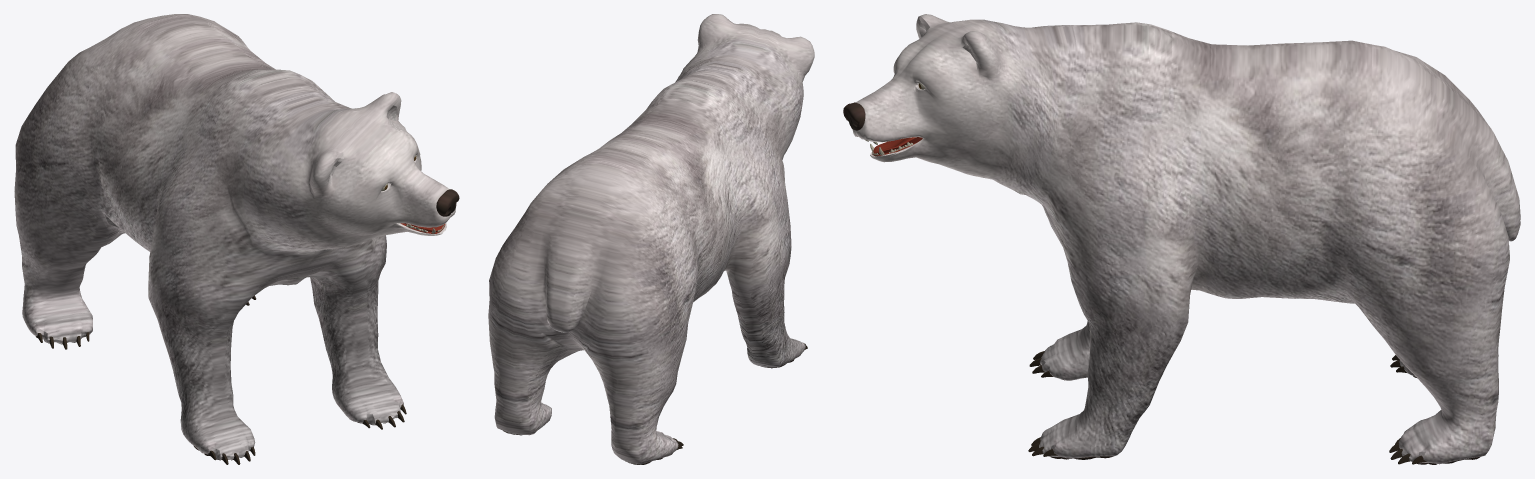
The model's file is oso.obj.
3 views of the same model, side by side, from view 1: azimuth 30°, elevation 25°; view 2: azimuth 150°, elevation 25°; view 3: azimuth 270°, elevation 25° (orthographic). The views are drawn at different scales.
Parts seen in each view (by area): view 1: B2Figure_2; view 2: B2Figure_2; view 3: B2Figure_2.
Boxes of the visible parts, left/top/right/bottom form: B2Figure_2: left=14, top=14, right=459, bottom=464; B2Figure_2: left=488, top=14, right=814, bottom=464; B2Figure_2: left=843, top=14, right=1520, bottom=464.
Size of the model in its own units: 6.32 by 9.82 by 14.86.
Materials: 1 (1 with a texture image).
